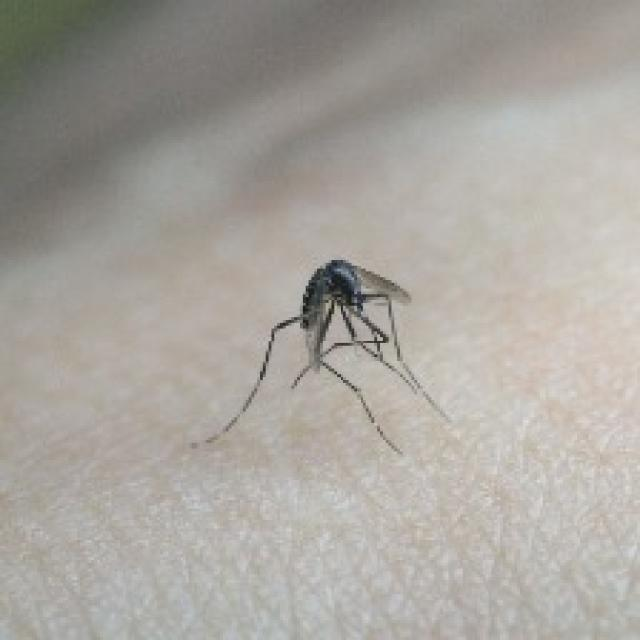aedes: (192, 254, 452, 457)
